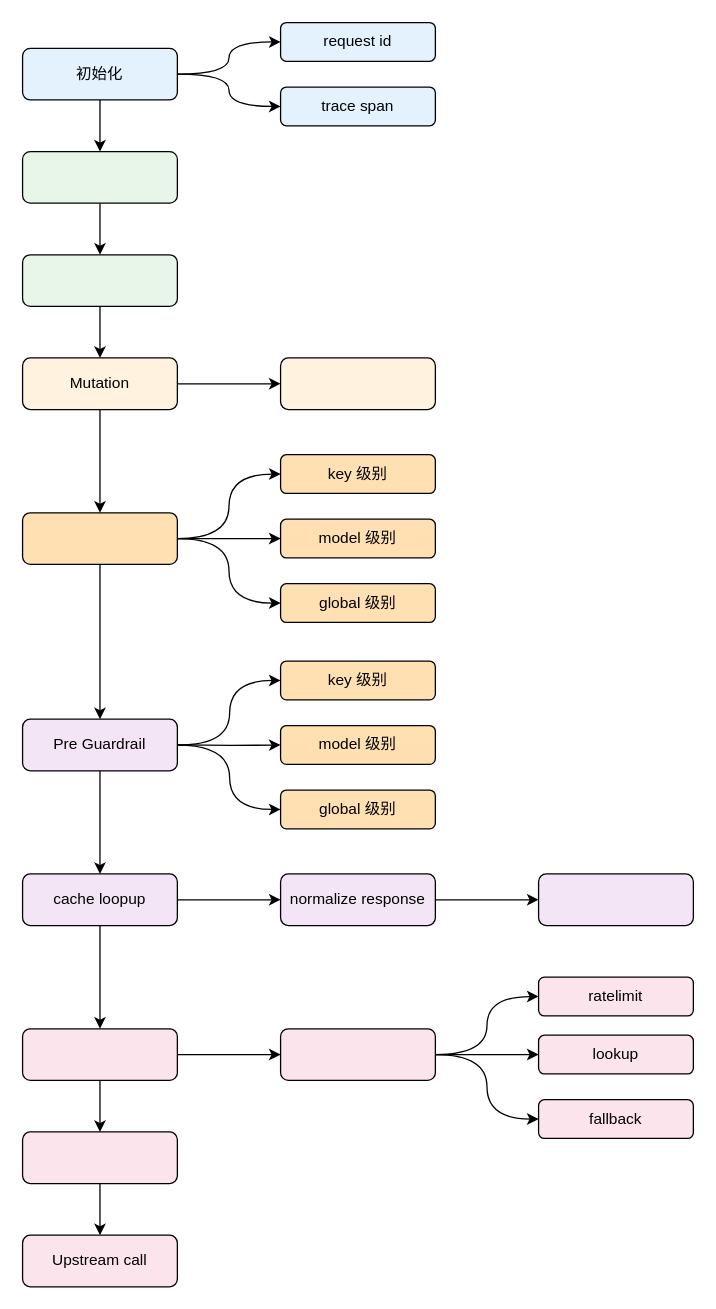
Some shapes in this 716 by 1309 pixel diagram are drawn without their labels. The shapes that lost their labels are listed below. From the top down, each one's box as (x1, y1, x2, y2) in pixels, then its label:
(21, 150, 177, 203): 认证
(21, 253, 177, 306): 鉴权
(279, 357, 435, 410): 提示词处理
(21, 511, 177, 564): 限流
(537, 873, 693, 926): return response
(21, 1027, 177, 1080): Routing
(279, 1027, 435, 1080): finding valid provider
(21, 1131, 177, 1184): Pvovider Build Request
